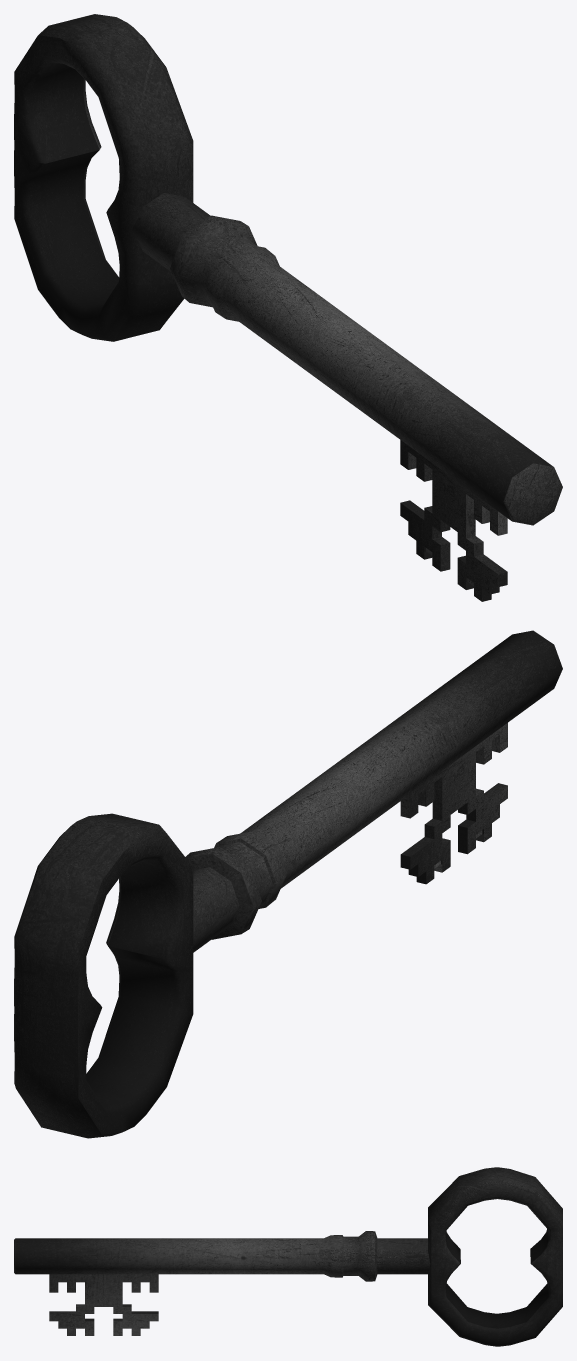
The model's file is SM_Key.fbx.
The picture shows the model from 3 angles, top to bottom: view 1: azimuth 30°, elevation 25°; view 2: azimuth 150°, elevation 25°; view 3: azimuth 270°, elevation 25°; orthographic projection. The views are drawn at different scales.
Parts seen in each view (by area): view 1: Cylinder.077; view 2: Cylinder.077; view 3: Cylinder.077.
Boxes of the visible parts, x1,y1,x2,y2 form: Cylinder.077: [14, 14, 562, 601]; Cylinder.077: [14, 630, 562, 1138]; Cylinder.077: [14, 1167, 562, 1346].
Size of the model in its own units: 7.26 by 24.67 by 73.53.
